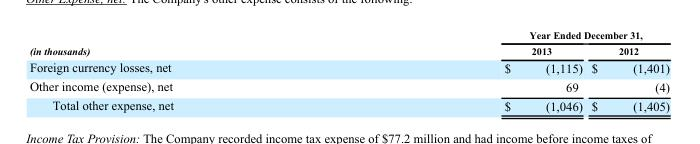table: (28, 28, 669, 113)
table column: (28, 28, 338, 113), (338, 28, 586, 113), (586, 28, 669, 113)
table column header: (28, 28, 669, 58)
table row: (28, 58, 669, 77), (28, 77, 669, 96), (28, 96, 669, 113), (28, 42, 669, 58), (28, 28, 669, 42)
table spanning cell: (28, 28, 338, 58), (338, 28, 669, 42)
